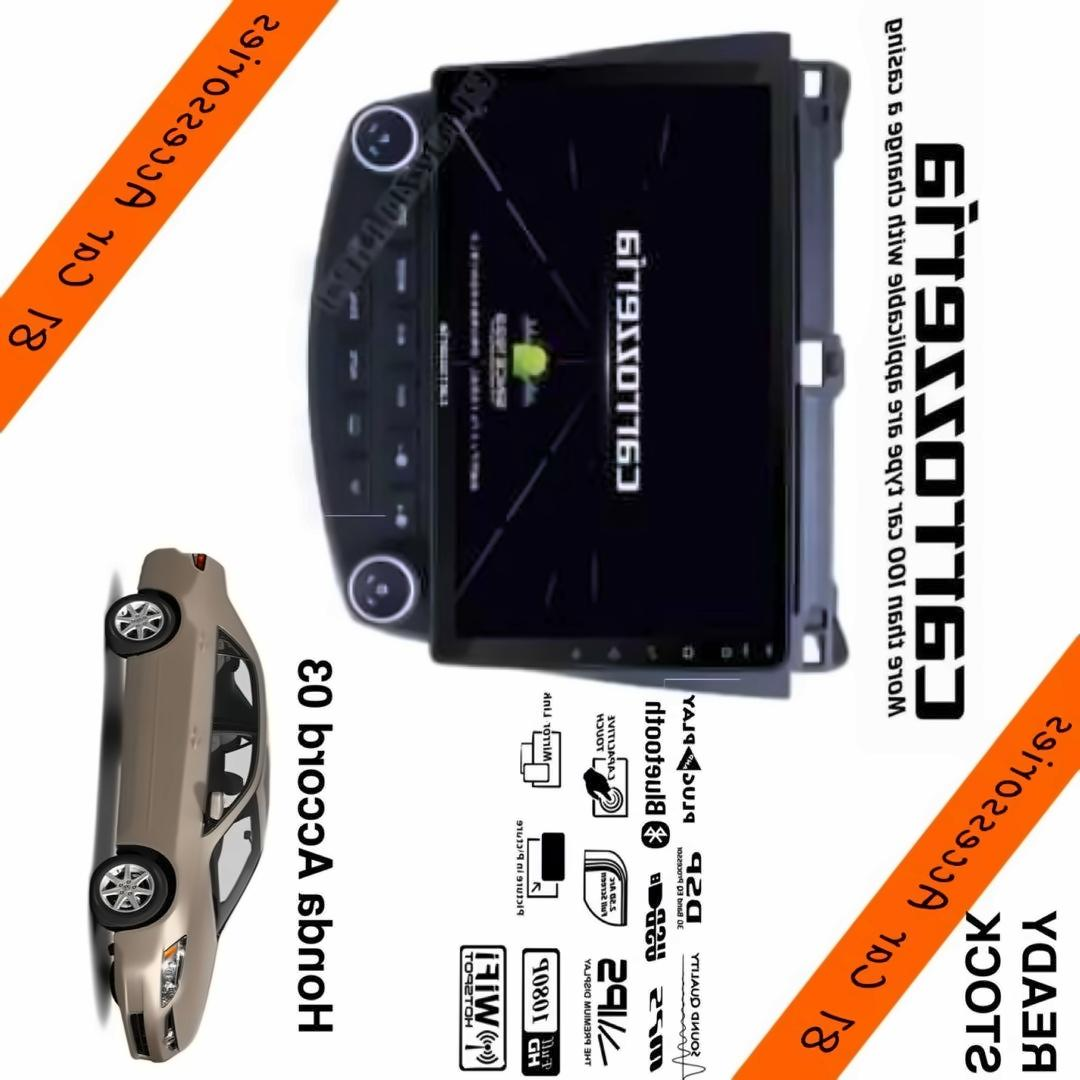Car hood: (172, 841, 219, 1058)
Driver-s door - -F-R-: (130, 735, 273, 835)
Fender - -F-R-: (115, 835, 223, 932)
Fender - -R-R-: (131, 584, 231, 662)
Front bumper: (110, 926, 170, 1065)
Headlight - -R-: (153, 930, 189, 1016)
Passenger-s door - -R-R-: (138, 626, 271, 732)
Rear bumper: (117, 538, 188, 594)
Rear light - -R-: (182, 539, 219, 587)
Side bumper - -R-: (111, 641, 147, 878)
Side mirror - -R-: (195, 767, 242, 836)
